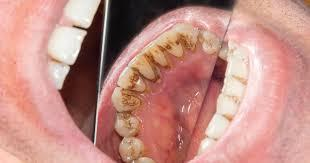Plaque: (164, 32, 198, 53), (143, 50, 166, 80), (121, 87, 142, 111), (120, 112, 138, 136), (123, 139, 142, 160), (125, 69, 141, 91)
